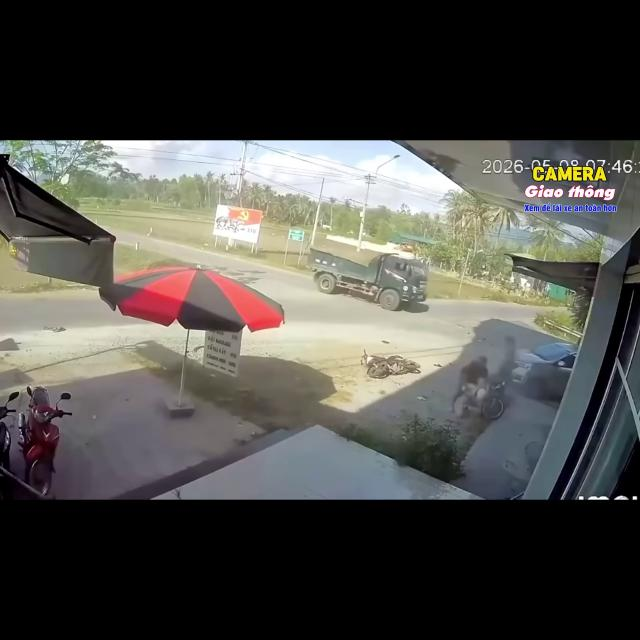car: (513, 343, 577, 401)
motorcycle: (19, 387, 72, 495), (0, 392, 19, 498), (361, 350, 420, 378), (464, 381, 506, 420), (482, 380, 506, 420)
truck: (308, 248, 428, 310)
